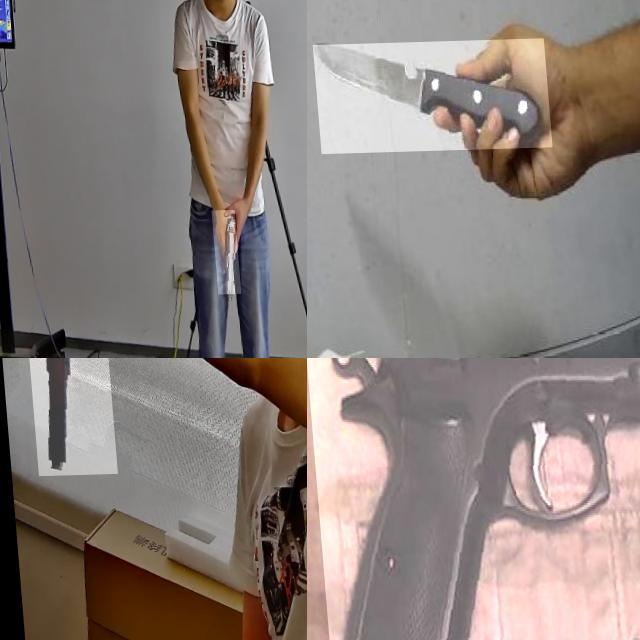-: (308, 41, 546, 156)
gun-knife-thesis - v11 Yolov5 augmented: (307, 358, 640, 640), (12, 358, 111, 510), (204, 212, 233, 296)
